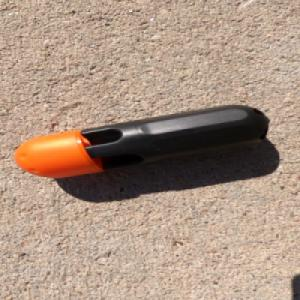PlasticPart: (12, 103, 270, 179)
